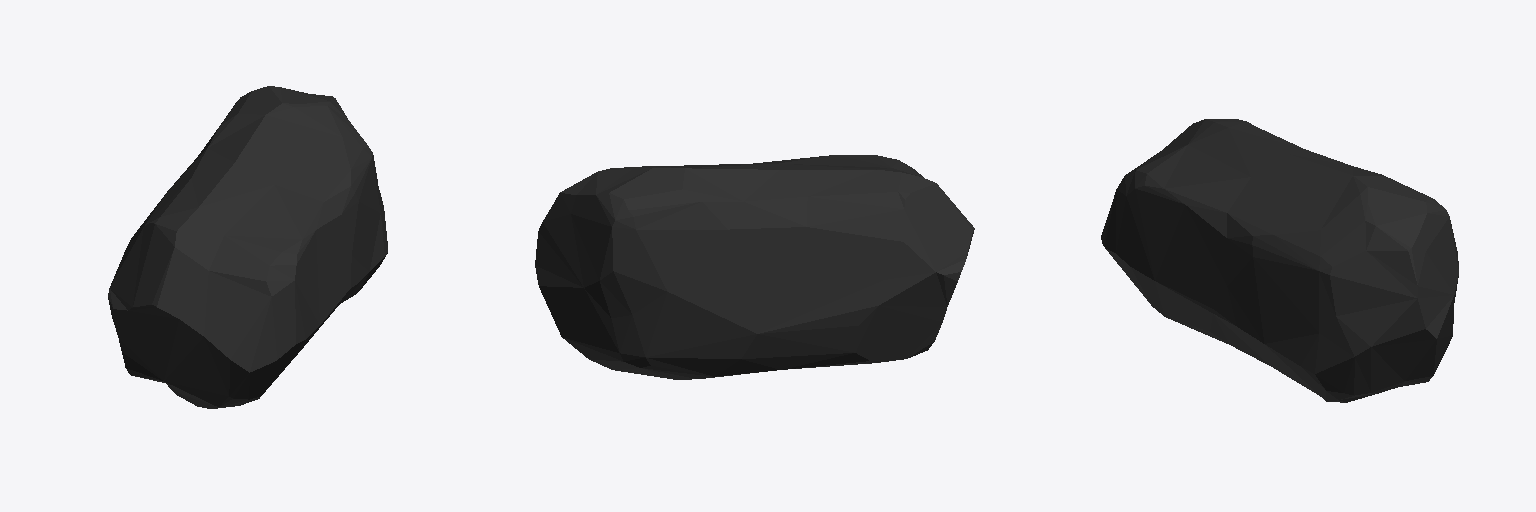
File: rock2.obj
3 views of the same model, side by side, from view 1: azimuth 30°, elevation 25°; view 2: azimuth 150°, elevation 25°; view 3: azimuth 270°, elevation 25° (orthographic).
Parts seen in each view (by area): view 1: Cube.001; view 2: Cube.001; view 3: Cube.001.
Part boxes in pixels (left/top/right/bottom): Cube.001: left=108, top=86, right=387, bottom=408; Cube.001: left=535, top=155, right=974, bottom=379; Cube.001: left=1101, top=119, right=1458, bottom=402.
Size of the model in its own units: 2.58 by 1.51 by 2.38.